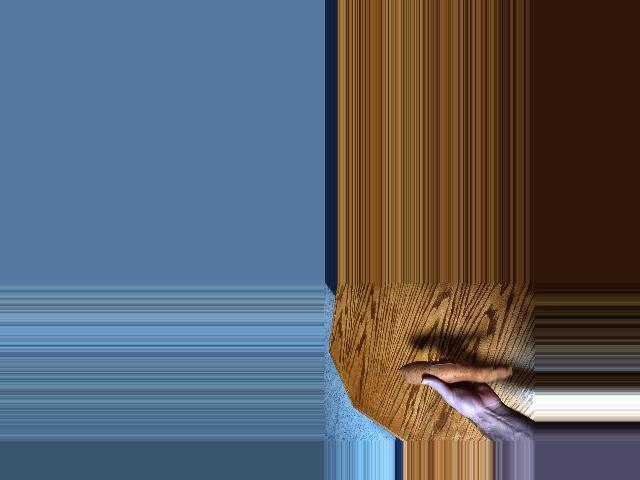sweet_potato: (405, 357, 512, 389)
